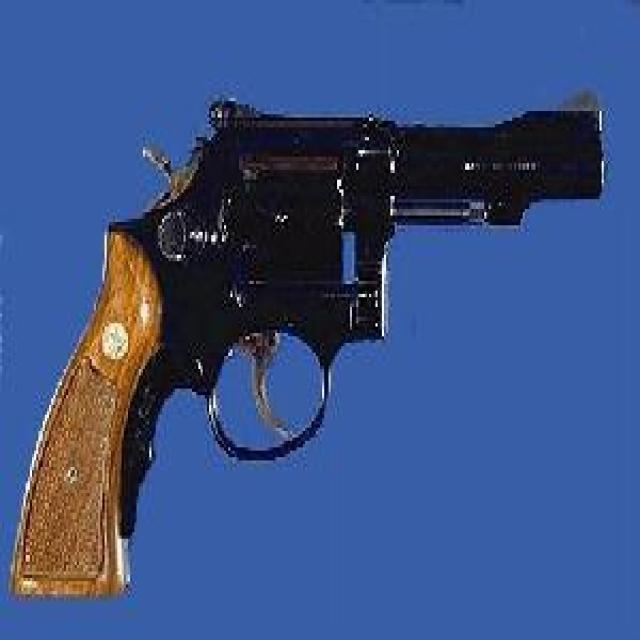gun: (4, 85, 602, 591)
